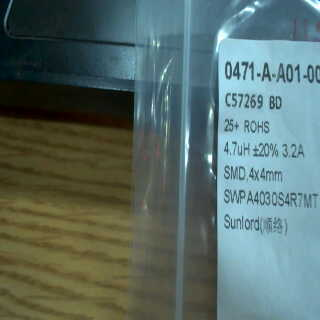4.7uH: (222, 138, 252, 162)
